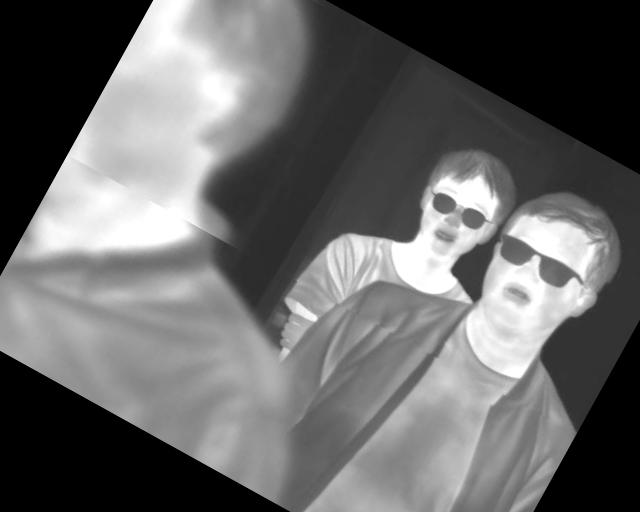face: (457, 169, 640, 369), (394, 130, 530, 277)
